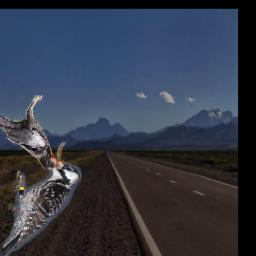Crow: (0, 96, 69, 173)
Woodpecker: (0, 157, 82, 256)
